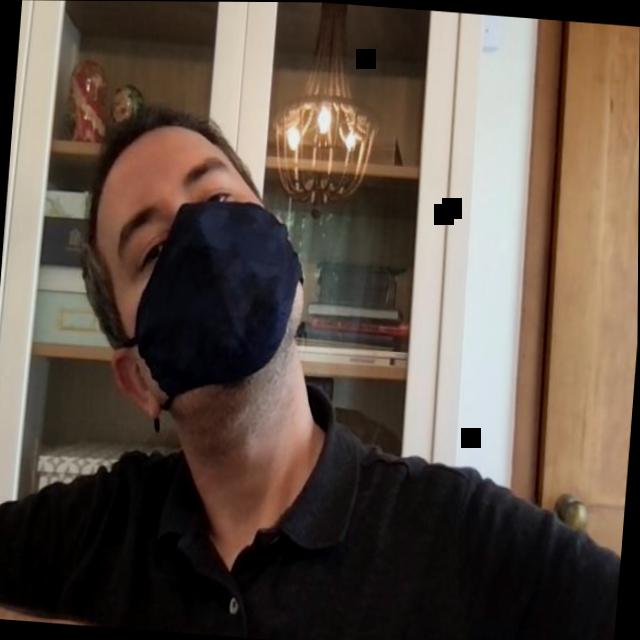Mask: (73, 95, 308, 407)
